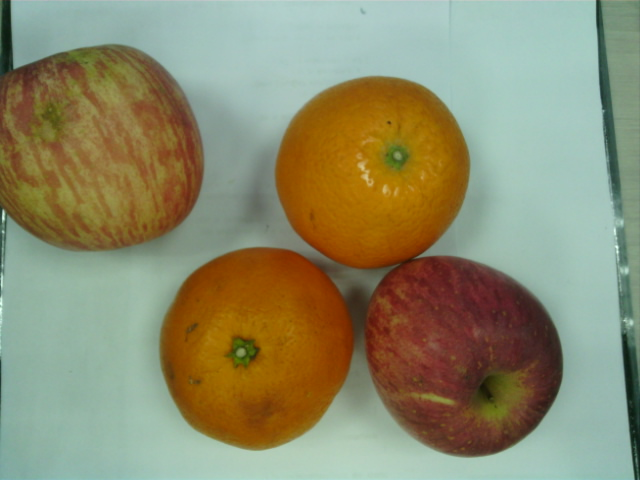normal_apple: (1, 44, 204, 248), (367, 255, 562, 458)
normal_orange: (161, 248, 355, 451), (275, 76, 471, 269)
